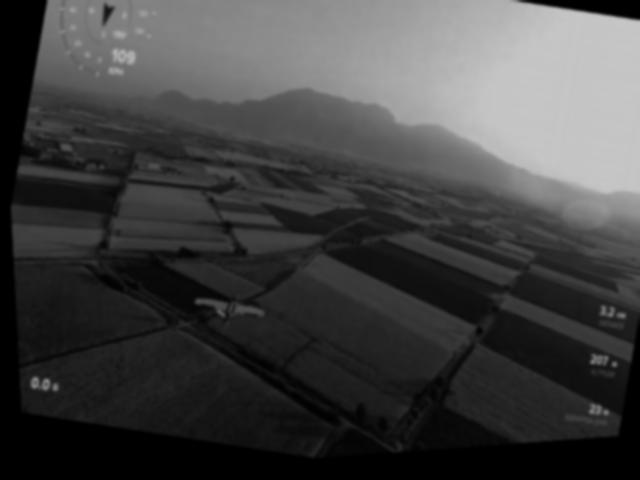hedef: (180, 281, 272, 347)
